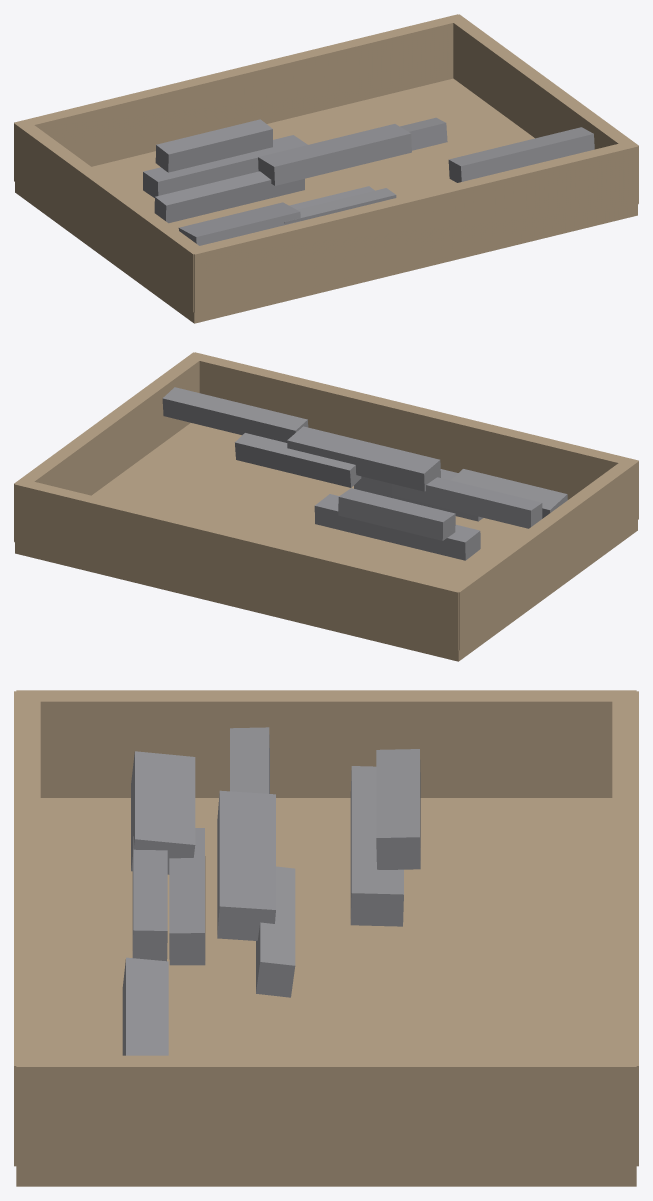
File: prop-scrap-iron-tray.fbx
The picture shows the model from 3 angles, top to bottom: view 1: azimuth 30°, elevation 25°; view 2: azimuth 150°, elevation 25°; view 3: azimuth 270°, elevation 25°; orthographic projection. The views are drawn at different scales.
Visible parts, largest first — view 1: prop-scrap-iron-tray; view 2: prop-scrap-iron-tray; view 3: prop-scrap-iron-tray.
Boxes of the visible parts, left/top/right/bottom form: prop-scrap-iron-tray: left=14, top=14, right=638, bottom=323; prop-scrap-iron-tray: left=14, top=352, right=638, bottom=661; prop-scrap-iron-tray: left=14, top=690, right=638, bottom=1186.
Size of the model in its own units: 40.2 by 6.89 by 28.2.
